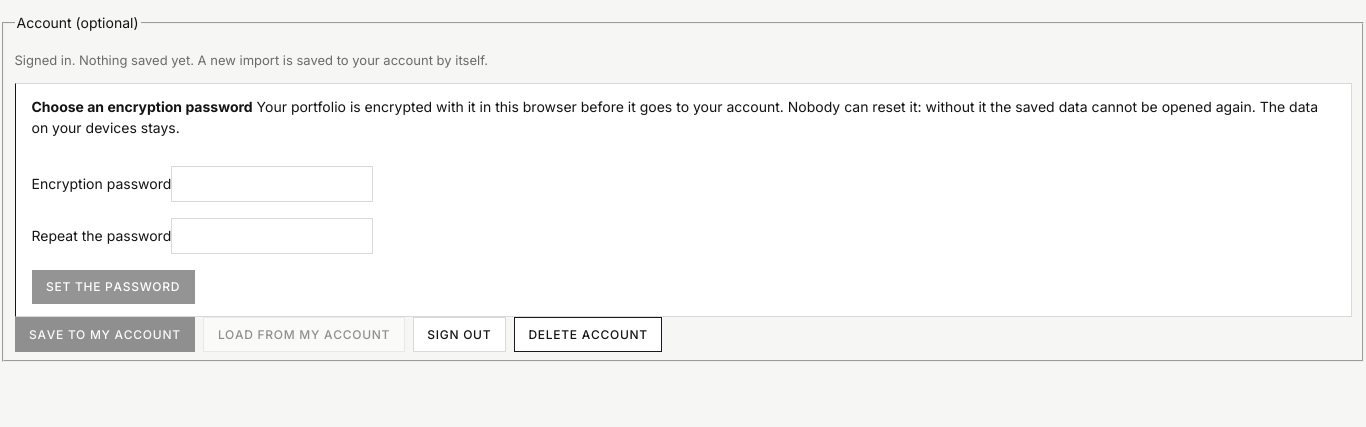
Scenario: AccountSection › asks to choose an encryption password before the first save
Check: the button "Save to my account" is disabled, box [14,317,195,352]
Type "short" into the password field labelled "Encryption password".
click(272, 184); type("short")  # box [171,166,374,202]
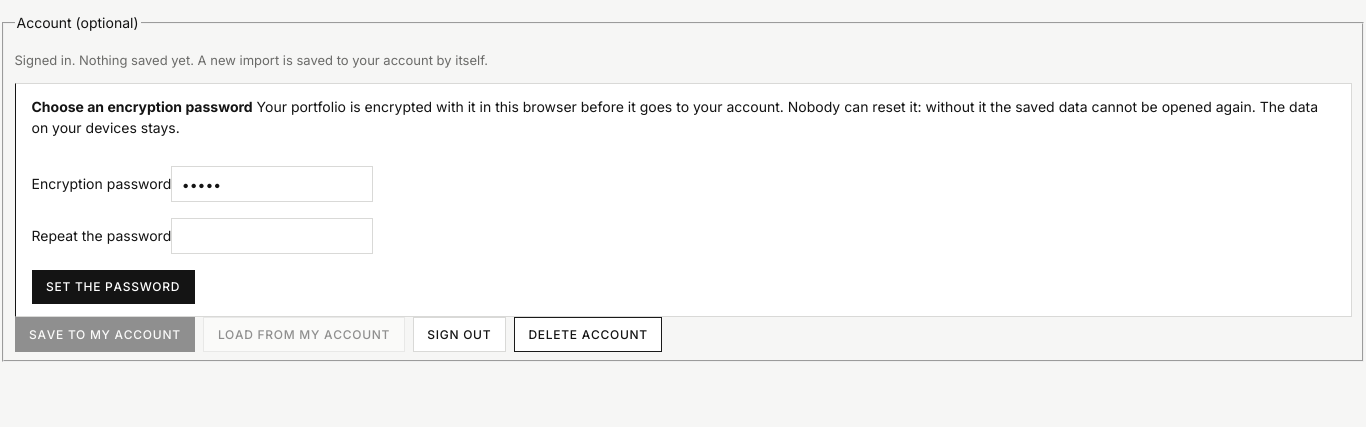
Click the button "Set the password".
click(113, 287)  # box [32,270,195,304]
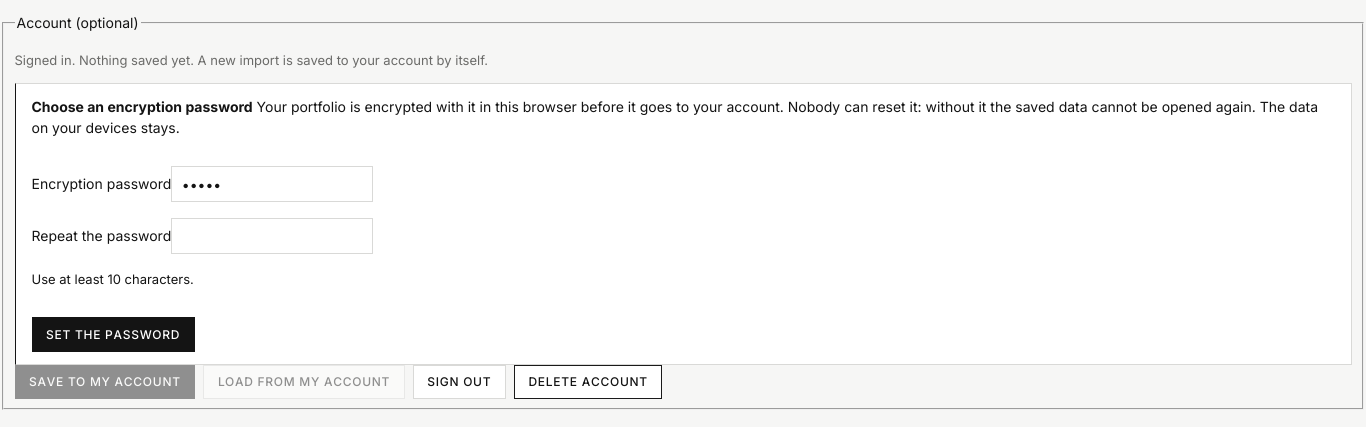
Check: the message reads "Use at least 10 characters.", box [32,271,194,287]
Type "long enough password" into the password field labelled "Encryption password".
click(272, 184); type("long enough password")  # box [171,166,374,202]
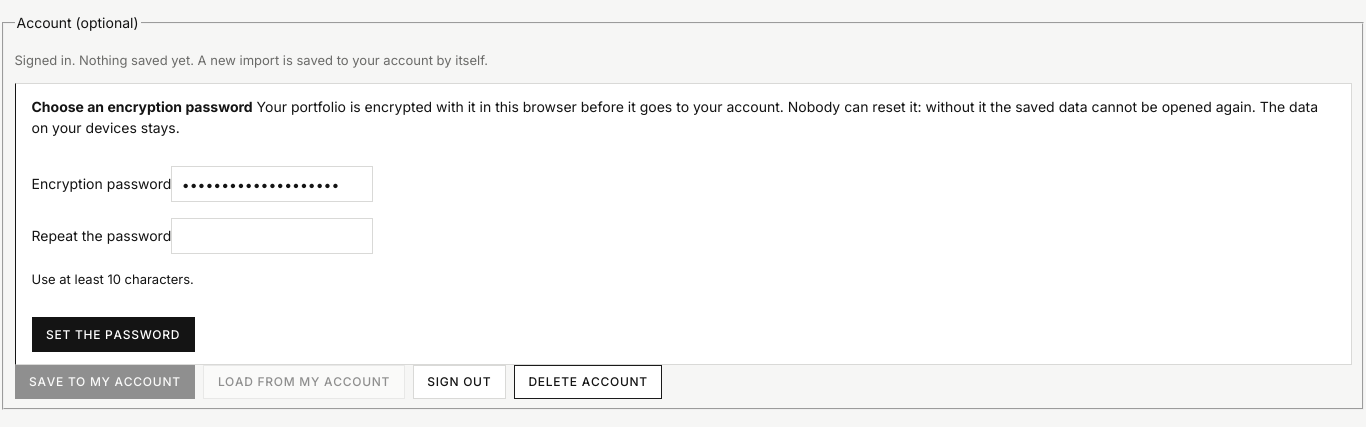
Type "long enough password" into the password field labelled "Repeat the password".
click(272, 236); type("long enough password")  # box [171,218,373,254]
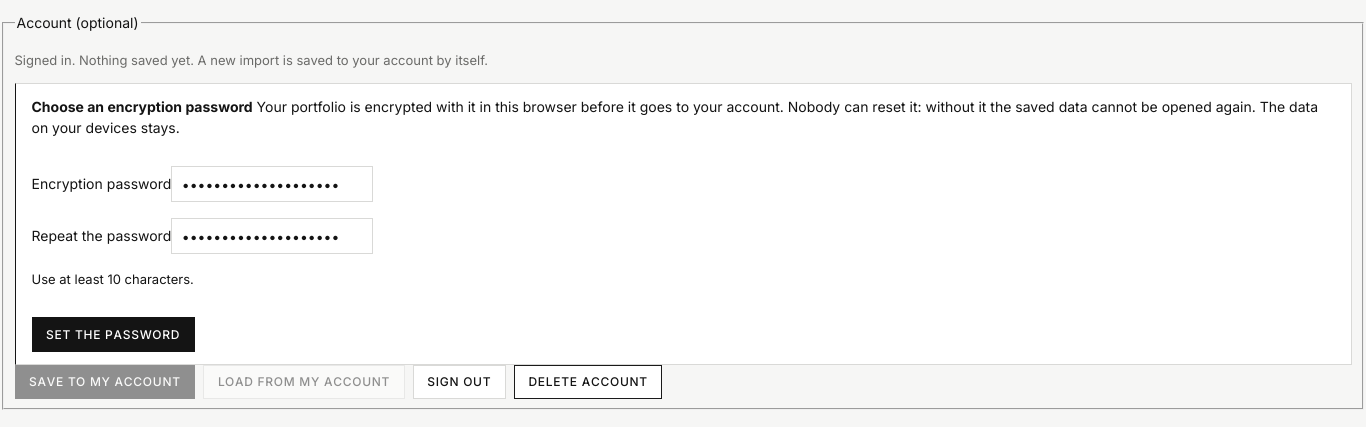
Click the button "Set the password".
click(113, 335)  # box [32,318,195,352]
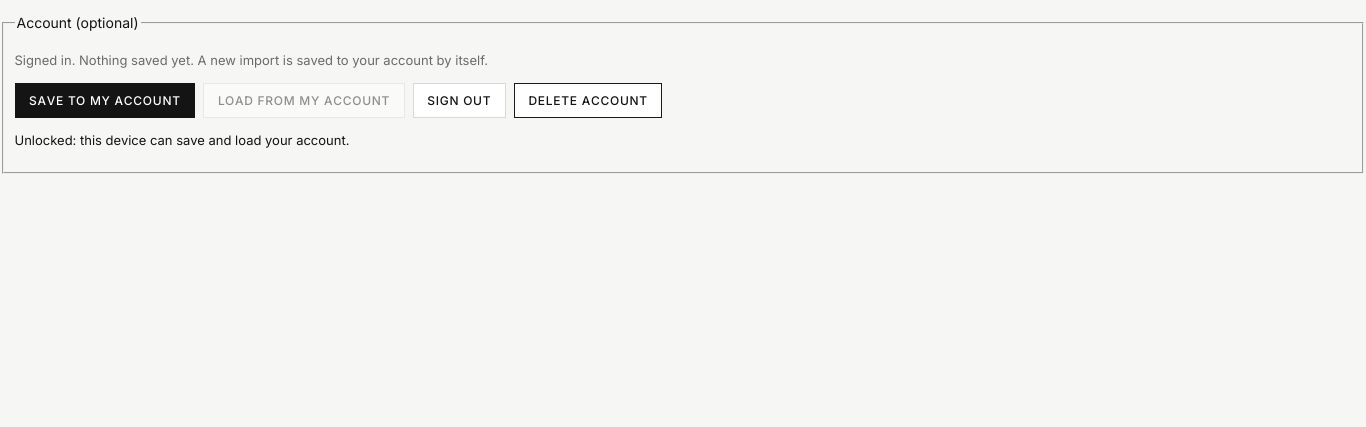
Check: the text "Unlocked: this device can save and load your account." is shown, box [14,132,350,148]
Check: the button "Save to my account" is enabled, box [14,83,195,118]
